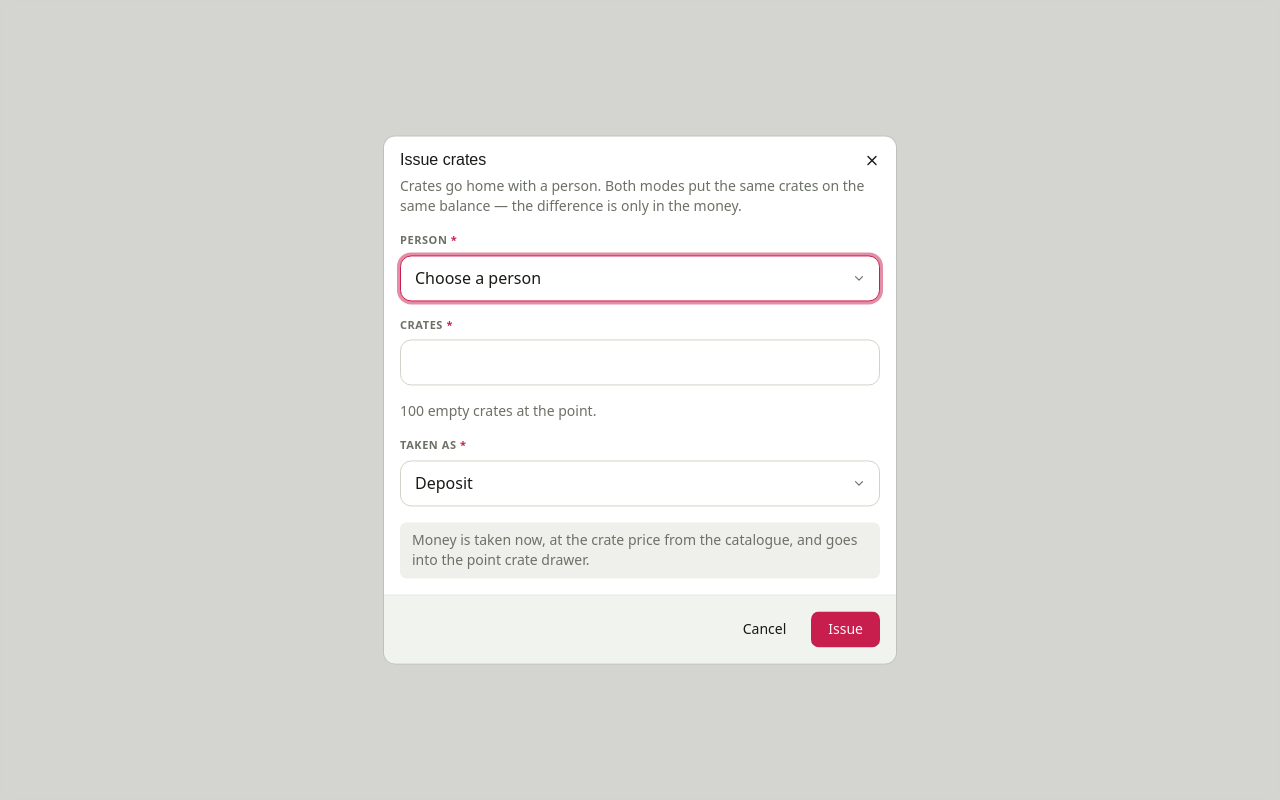
Test: IssueCratesDialog › names NO_CRATE_TYPE rather than showing a generic failure
Select "Василь Яремчук" in the dropdown labelled "Person" at (640, 278), box [400,255,880,301]
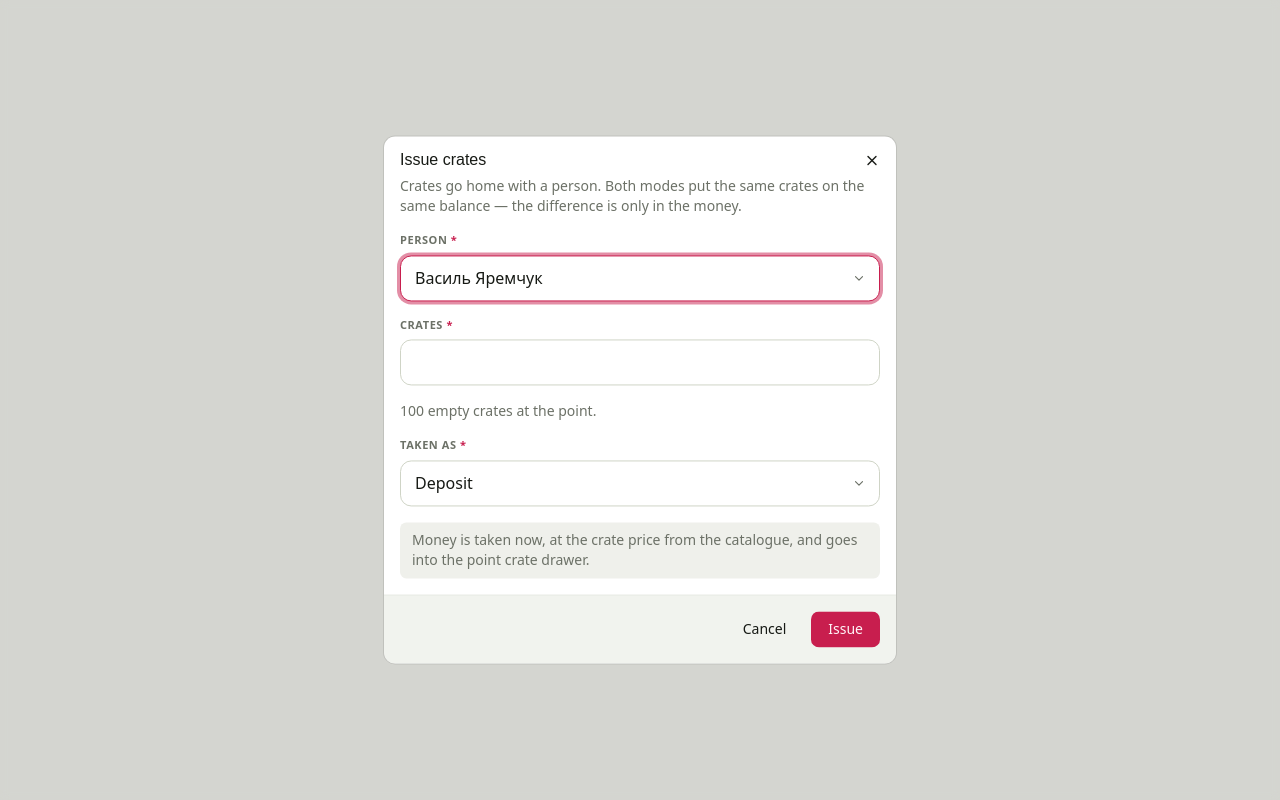
Type "20" into the field labelled "Crates" at (640, 363), box [400,340,880,386]
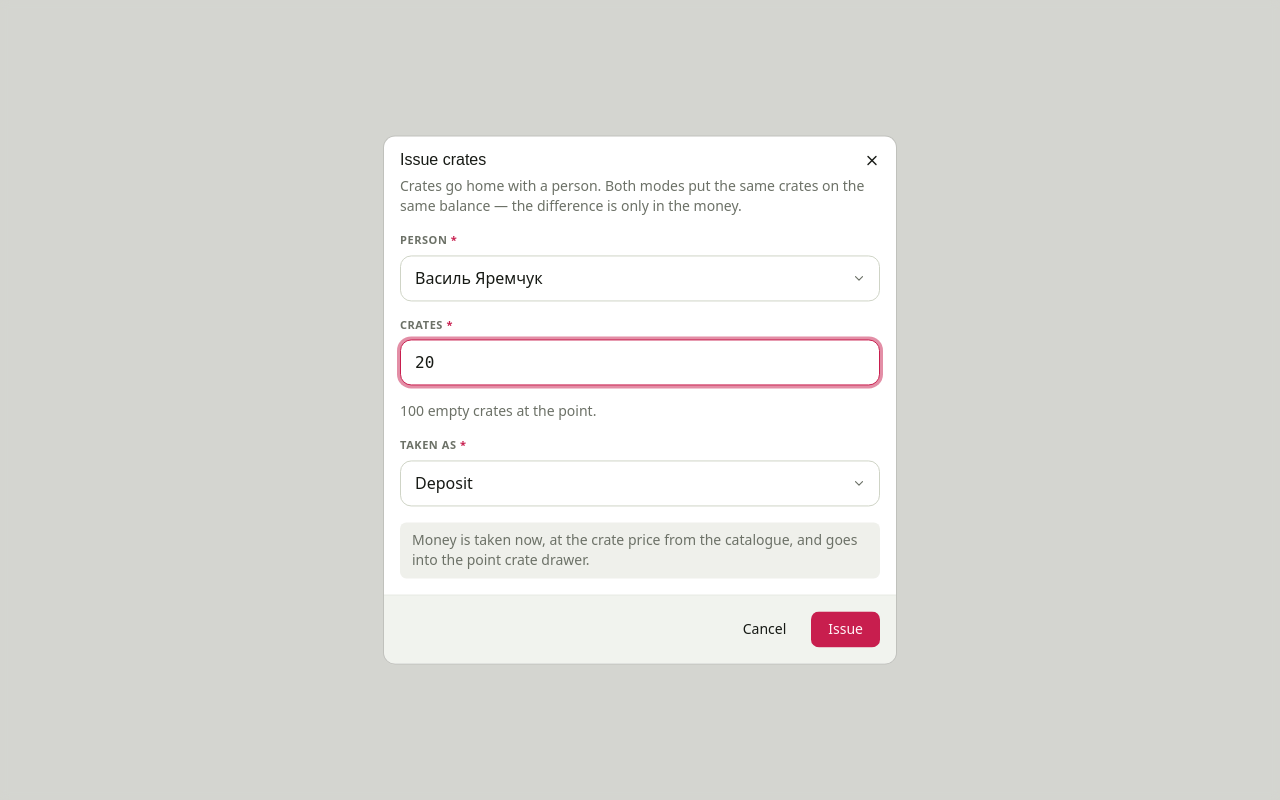
Click the button "Issue" at (846, 630), box [811,612,880,648]
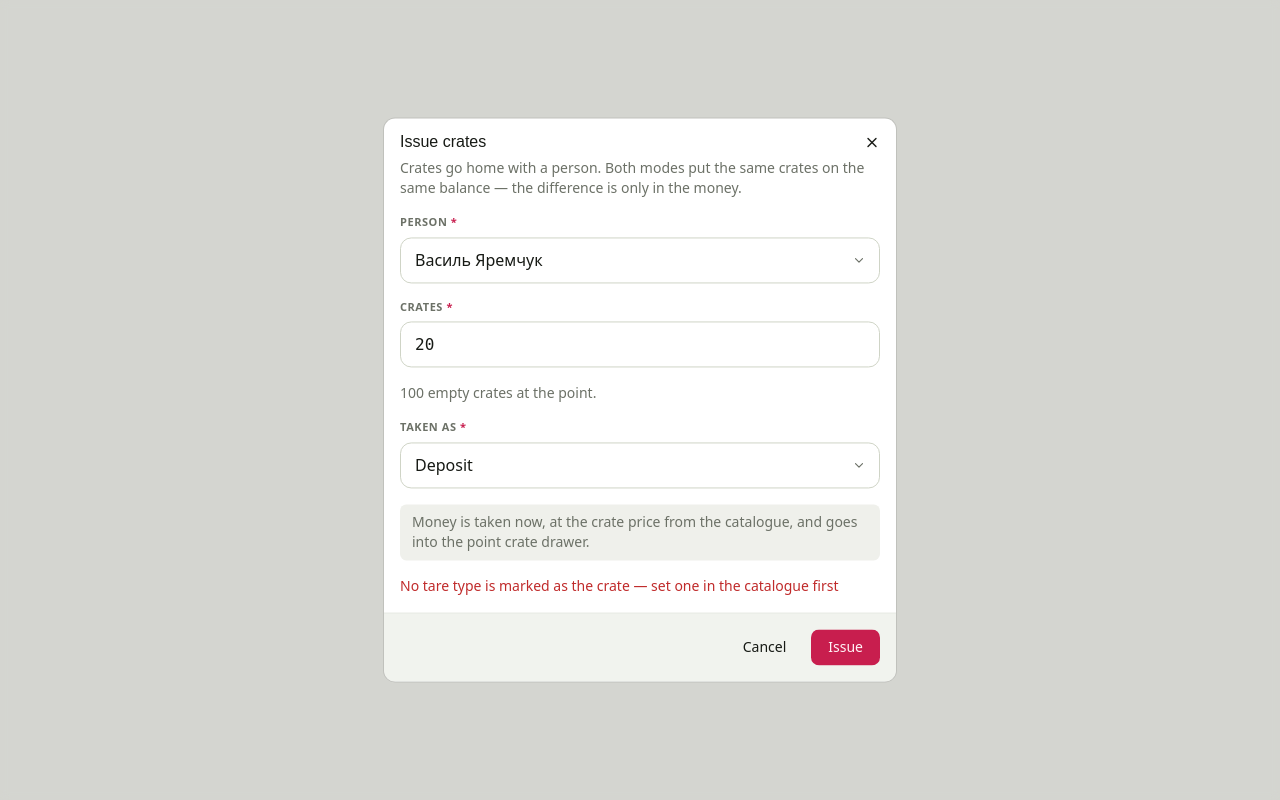
Expected: the text "No tare type is marked as the crate — set one in the catalogue first" is shown, [400,577,880,597]
